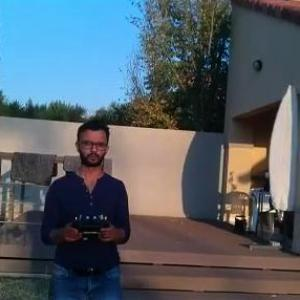follow: (37, 110, 137, 299)
